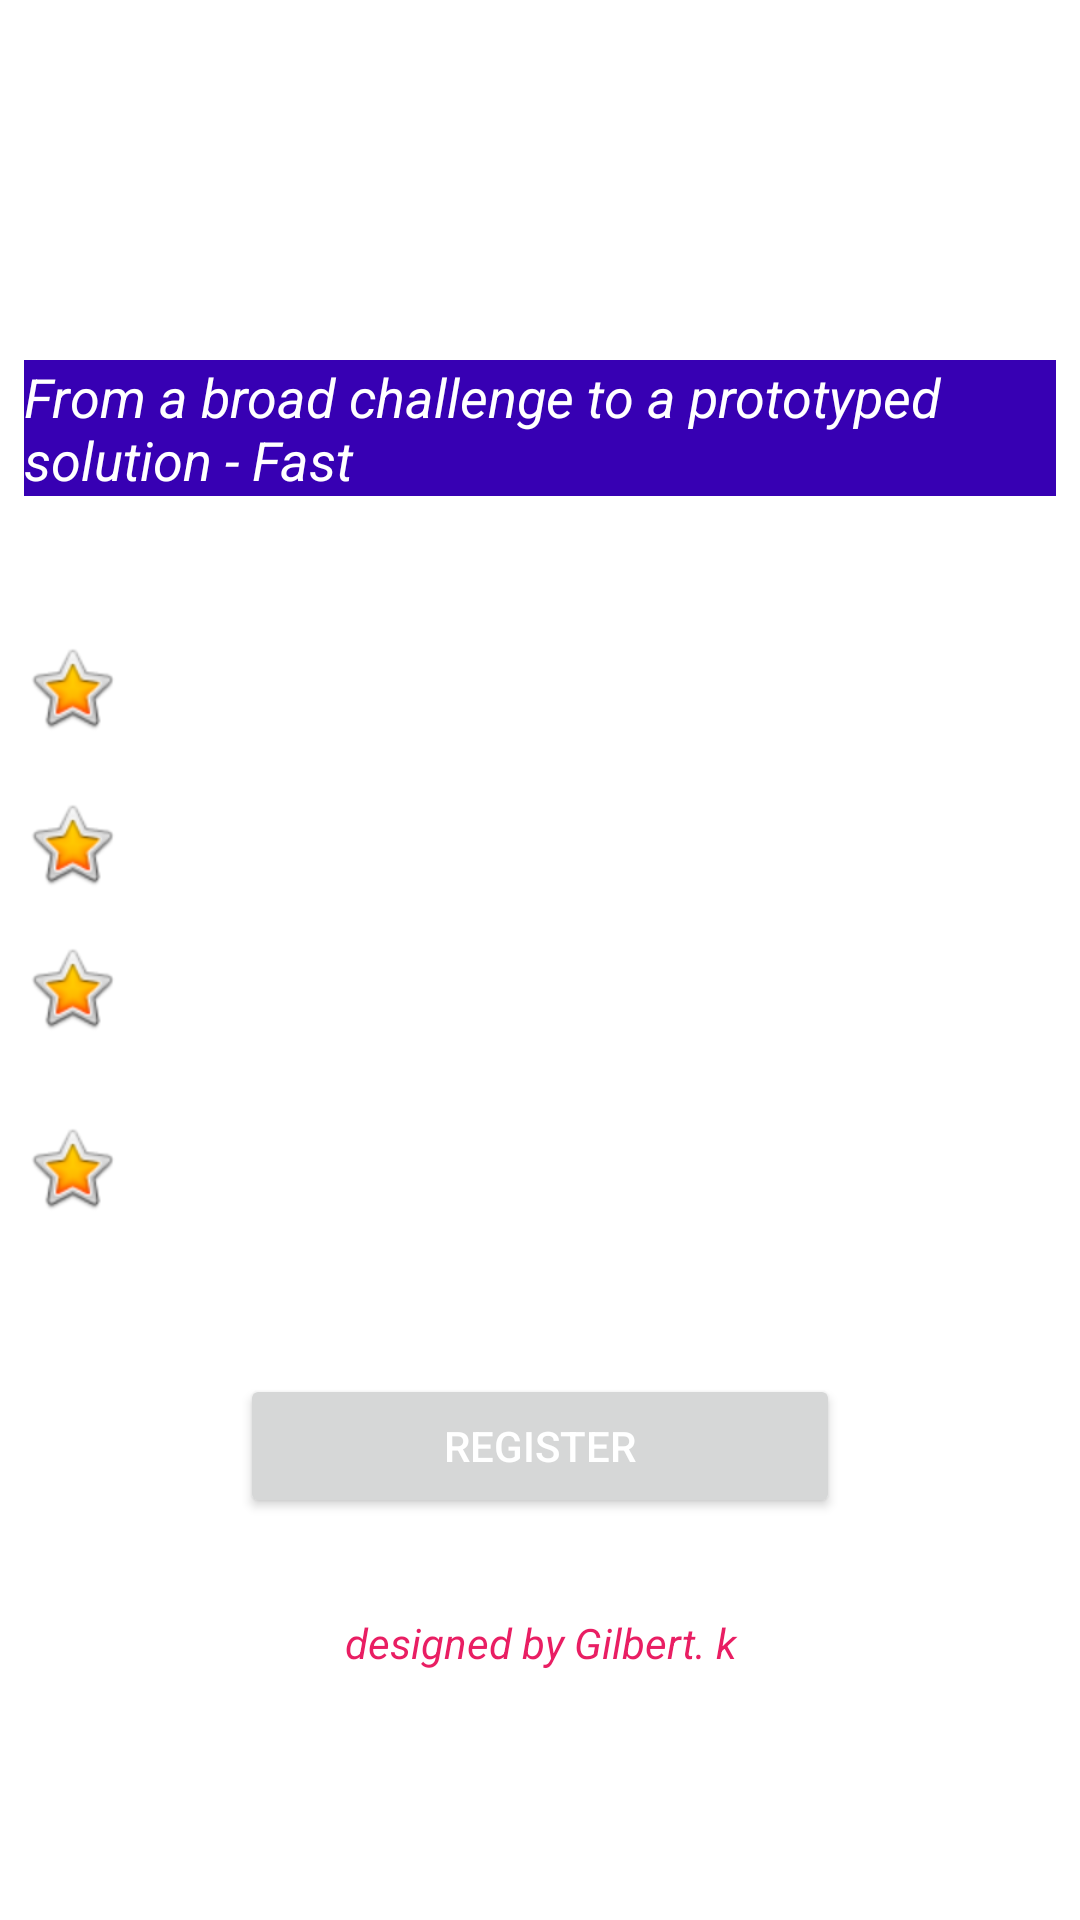

Screen size 1080 x 1920. Icon name, then its center in pixels as [x,y]:
star on: [73,689], [73,845], [73,989], [73,1169]
